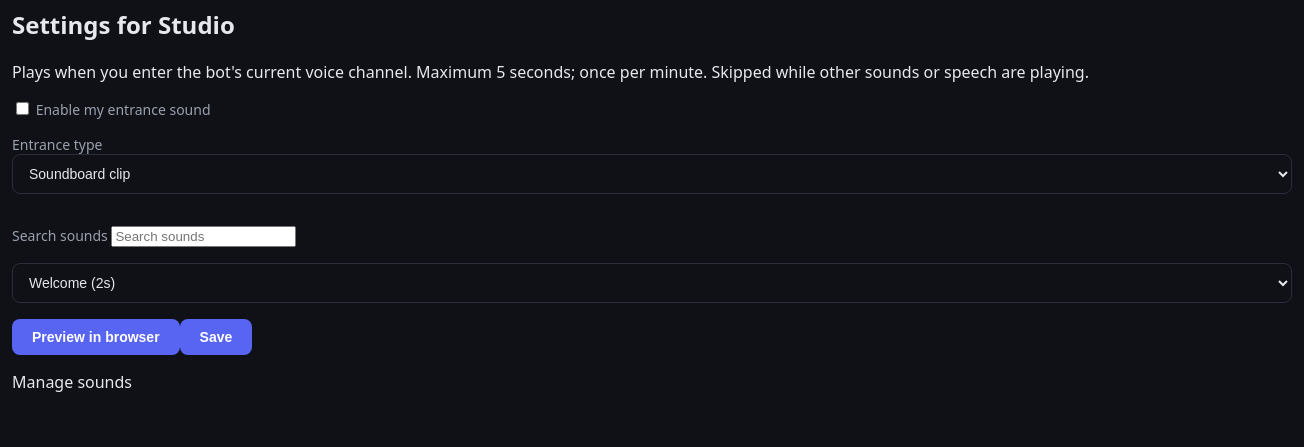
Test: EntranceForm › preview requests a browser URL without saving or invoking Discord playback
Click the button "Preview in browser" at (96, 337), box 12,319 -> 180,355
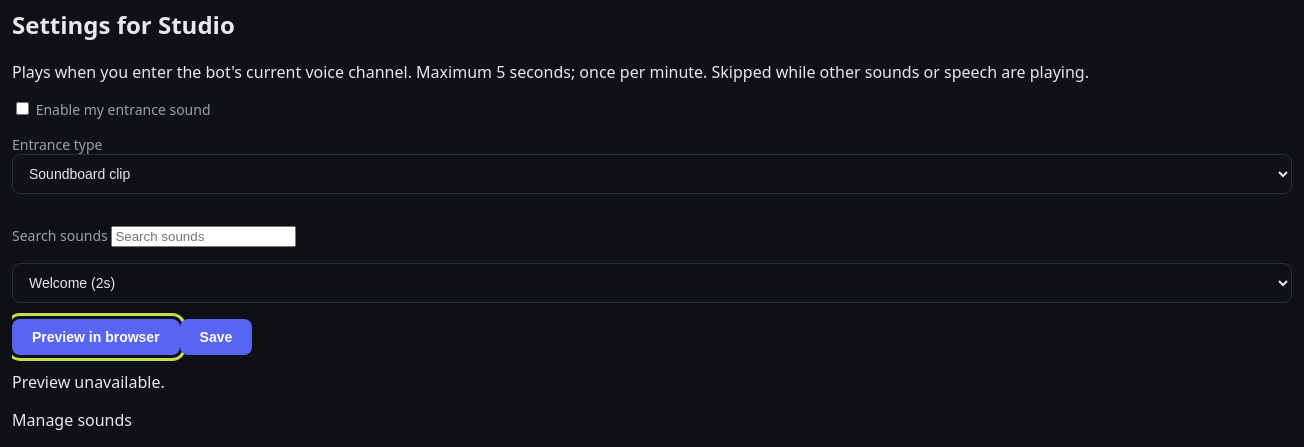
Expected: the message reads "Preview unavailable.", 12,371 -> 165,393
